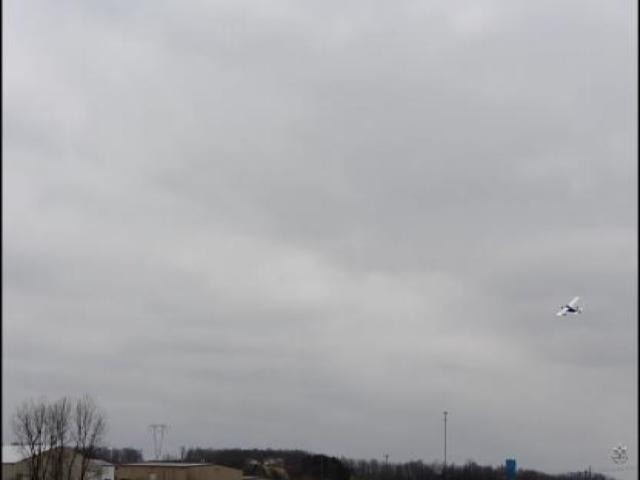uav: (554, 293, 586, 320)
